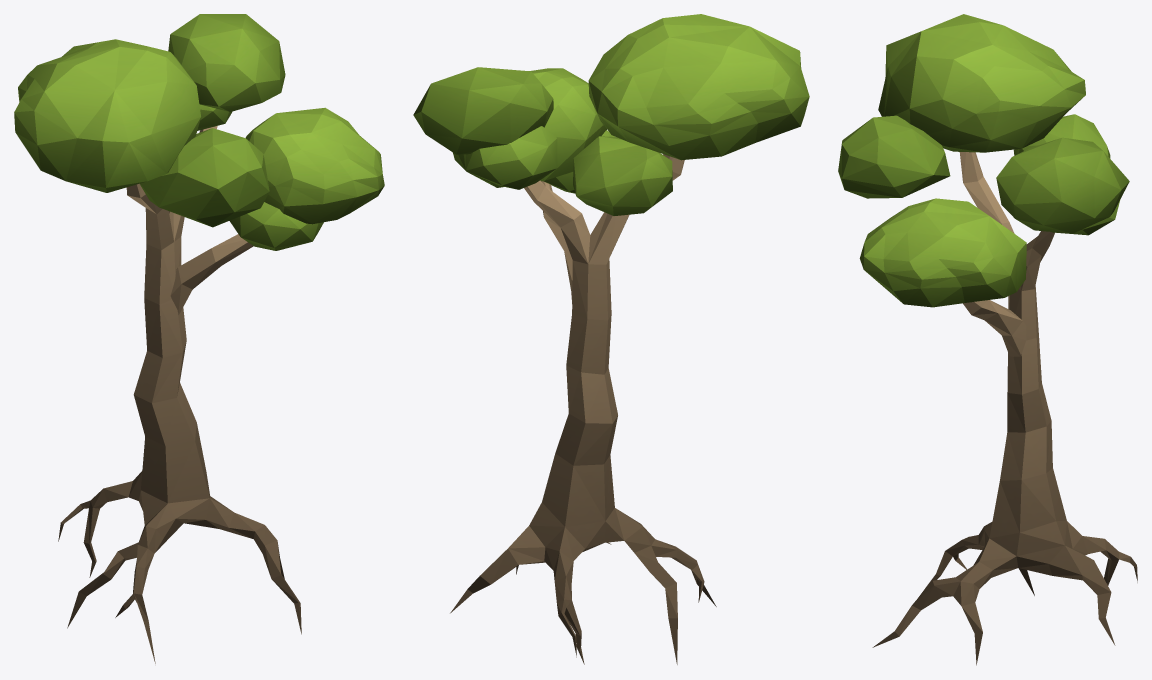
File: ZLP_Plant_D_4.FBX
The picture shows the model from 3 angles, left to right: view 1: azimuth 30°, elevation 25°; view 2: azimuth 150°, elevation 25°; view 3: azimuth 270°, elevation 25°; orthographic projection. The views are drawn at different scales.
Visible parts, largest first — view 1: ZLP_Plant_D_4; view 2: ZLP_Plant_D_4; view 3: ZLP_Plant_D_4.
Part boxes in pixels (left/top/right/bottom): ZLP_Plant_D_4: left=14, top=14, right=384, bottom=663; ZLP_Plant_D_4: left=413, top=14, right=809, bottom=664; ZLP_Plant_D_4: left=838, top=14, right=1137, bottom=665.
Size of the model in its own units: 591 by 993 by 476.
